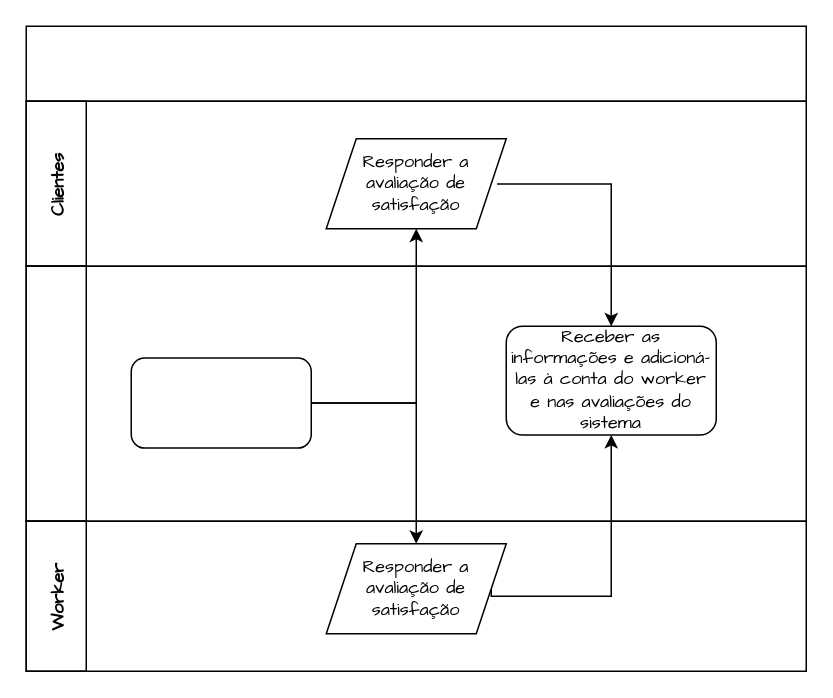
This 833x698 diagram has some shape labels left out. The centre of each missing label's shape, as x and y in pixels:
Fluxograma de Avaliação WorkAround: pixel 415 63
Worker e Cliente confirmam o término dos serviços no app: pixel 220 402
Wrokaround: pixel 55 393
